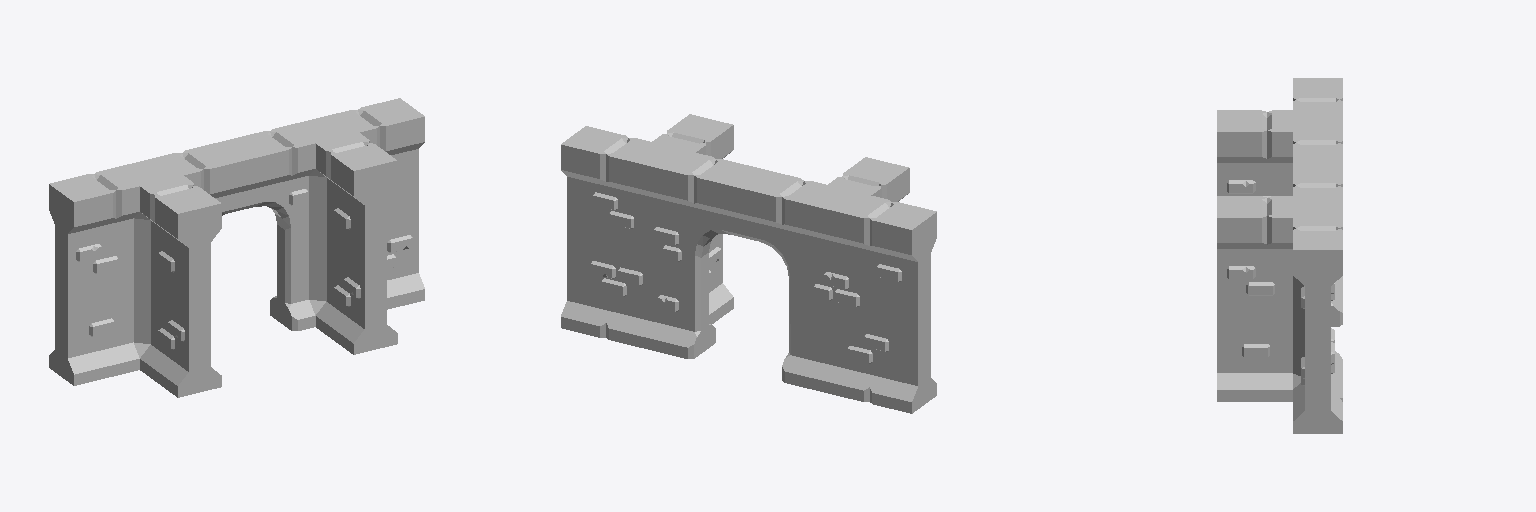
Rendered from wall_doorway_Tsplit.obj.
3 renders of one model, left to right at view 1: azimuth 30°, elevation 25°; view 2: azimuth 150°, elevation 25°; view 3: azimuth 270°, elevation 25°, orthographic.
Visible parts, largest first — view 1: wall_doorway_Tsplit; view 2: wall_doorway_Tsplit; view 3: wall_doorway_Tsplit.
Boxes of the visible parts, x1=… form: wall_doorway_Tsplit: x1=49, y1=98, x2=424, y2=397; wall_doorway_Tsplit: x1=561, y1=114, x2=936, y2=413; wall_doorway_Tsplit: x1=1217, y1=78, x2=1342, y2=433.
Bounding box in the file's own units: 8 × 4 × 2.5.